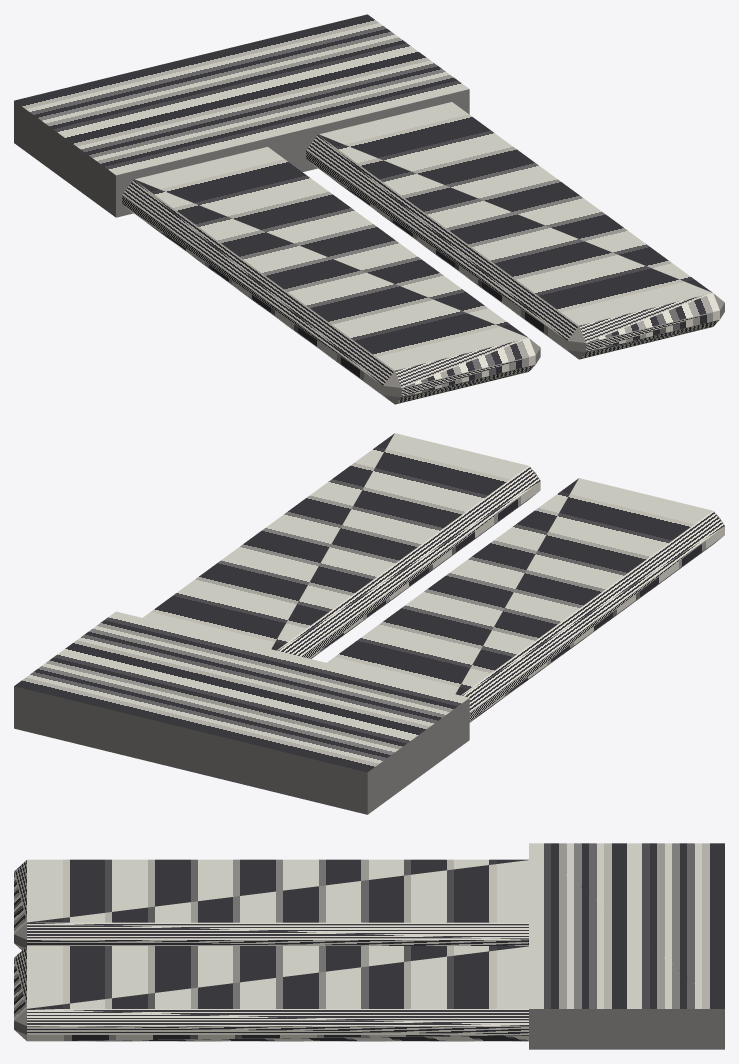
Rendered from striped_pants.glb.
The picture shows the model from 3 angles, top to bottom: view 1: azimuth 30°, elevation 25°; view 2: azimuth 150°, elevation 25°; view 3: azimuth 270°, elevation 25°; orthographic projection. The views are drawn at different scales.
Visible parts, largest first — view 1: block_striped leg (×2), block_striped waist; view 2: block_striped leg (×2), block_striped waist; view 3: block_striped leg (×2), block_striped waist.
Boxes of the visible parts, box(x1,y1,x2,y2) form: block_striped leg (×2): box(122, 102, 724, 404); block_striped waist: box(14, 14, 469, 217); block_striped leg (×2): box(143, 433, 724, 722); block_striped waist: box(14, 611, 469, 814); block_striped leg (×2): box(14, 859, 528, 1041); block_striped waist: box(529, 843, 724, 1049).
Size of the model in its own units: 0.1634 by 0.0187 by 0.2961.
1 material, 1 textured.
